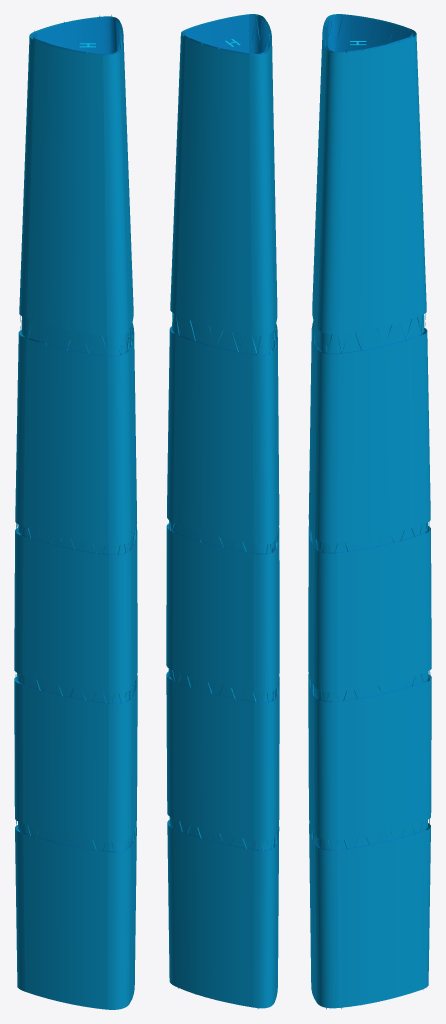
The model's file is 国际金融中心2.glb.
The picture shows the model from 3 angles, left to right: view 1: azimuth 90°, elevation 25°; view 2: azimuth 210°, elevation 25°; view 3: azimuth 270°, elevation 25°; orthographic projection.
Parts seen in each view (by area): view 1: 国际金融中心1; view 2: 国际金融中心1; view 3: 国际金融中心1.
Part boxes in pixels (bbox=[...]): 国际金融中心1: bbox=[14, 15, 137, 1009]; 国际金融中心1: bbox=[166, 14, 279, 1008]; 国际金融中心1: bbox=[308, 14, 431, 1009].
Bounding box in the file's own units: 46.02 × 416 × 48.66.
